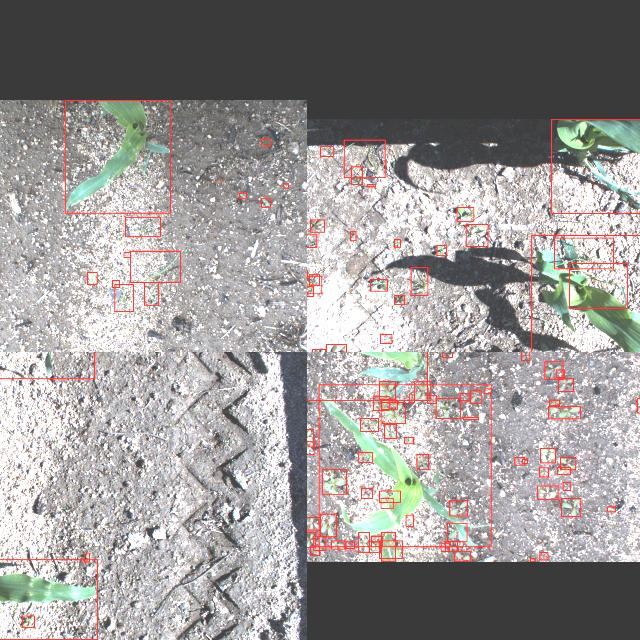crop: (318, 385, 490, 547), (531, 234, 640, 352), (64, 100, 170, 212), (550, 119, 640, 213), (0, 560, 97, 640), (307, 352, 426, 399), (0, 352, 93, 378), (381, 532, 395, 562)
weed: (569, 264, 627, 308), (554, 238, 612, 268), (344, 139, 384, 177), (129, 252, 179, 282), (124, 217, 160, 237), (321, 470, 345, 494), (114, 284, 132, 312), (410, 267, 428, 295), (381, 402, 405, 423), (465, 224, 487, 246), (436, 398, 460, 418), (378, 541, 402, 559), (548, 407, 580, 419), (320, 514, 336, 538), (560, 499, 580, 517), (446, 524, 466, 542), (144, 282, 158, 306), (544, 361, 562, 379), (413, 382, 429, 401), (449, 500, 467, 516), (379, 381, 395, 399), (537, 486, 557, 500), (456, 207, 474, 221), (307, 276, 321, 294), (360, 418, 378, 432), (378, 491, 399, 503), (540, 448, 554, 464), (358, 532, 368, 554), (369, 279, 386, 291), (351, 166, 362, 184), (558, 378, 572, 392), (374, 396, 388, 410), (416, 454, 428, 470), (310, 220, 324, 232), (560, 458, 574, 470), (384, 424, 396, 438), (313, 536, 325, 550), (326, 344, 346, 352), (454, 552, 470, 562), (380, 400, 396, 410), (307, 517, 319, 530), (22, 616, 34, 628), (358, 452, 372, 462), (371, 536, 382, 548), (470, 391, 480, 404), (381, 498, 394, 508), (86, 272, 96, 284), (379, 334, 391, 344), (320, 146, 332, 156), (445, 542, 457, 552), (307, 234, 316, 247), (330, 541, 344, 549), (361, 488, 372, 498), (368, 542, 379, 552), (307, 532, 314, 547), (307, 429, 313, 446), (436, 245, 446, 255), (309, 275, 319, 285), (309, 546, 319, 556), (538, 468, 548, 477), (439, 542, 448, 552), (556, 468, 570, 474), (260, 198, 270, 206), (260, 138, 270, 146), (394, 296, 404, 304), (514, 457, 524, 465), (426, 395, 436, 403), (307, 441, 313, 454), (459, 393, 468, 401), (562, 482, 570, 490), (555, 370, 563, 378), (521, 352, 529, 360), (539, 552, 547, 560), (636, 398, 640, 413), (549, 400, 559, 406), (406, 516, 412, 526), (403, 438, 412, 444), (307, 286, 312, 296), (442, 352, 452, 357), (238, 192, 246, 198), (122, 252, 130, 258), (112, 280, 118, 288), (394, 239, 400, 247), (607, 506, 615, 512), (408, 394, 414, 402), (346, 542, 354, 548), (484, 388, 491, 394), (311, 349, 324, 352), (350, 232, 354, 240), (84, 554, 88, 562), (462, 417, 478, 419), (282, 184, 288, 188), (522, 458, 526, 464), (367, 184, 375, 186), (530, 558, 534, 562)
